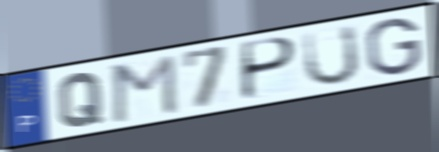7: (179, 44, 231, 112)
G: (364, 16, 424, 78)
M: (110, 52, 180, 126)
P: (239, 35, 300, 103)
Q: (56, 70, 105, 130)
U: (301, 22, 362, 88)
